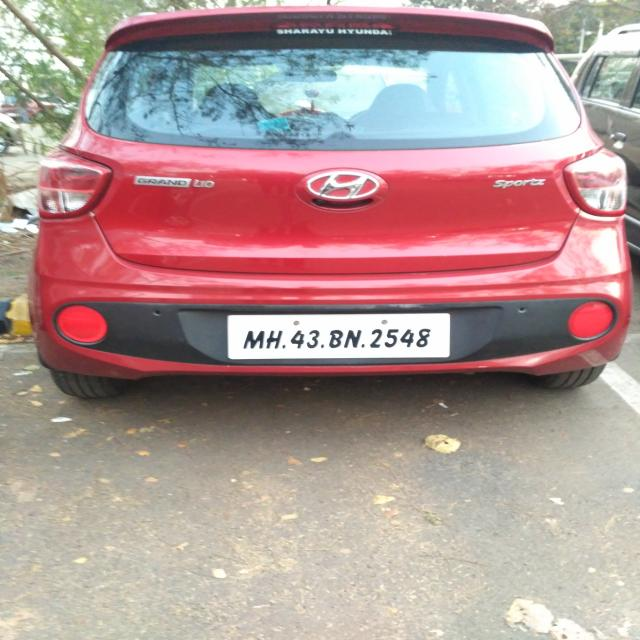Number-Plate: (232, 310, 452, 356)
